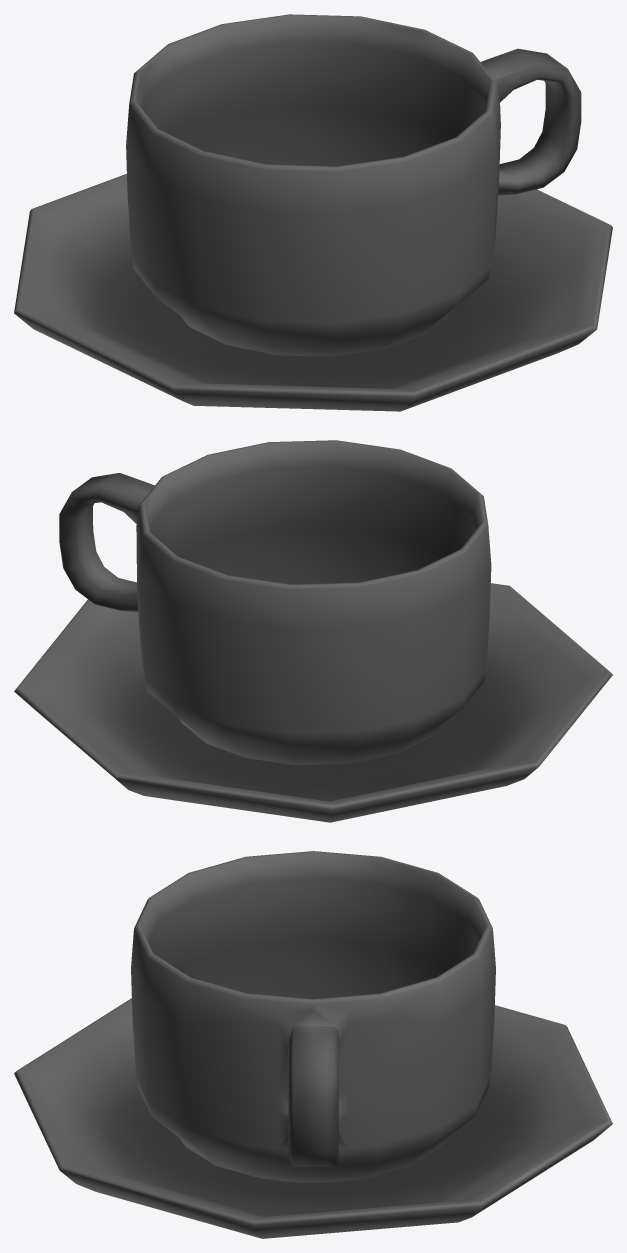
The model's file is Coffeecup.fbx.
The picture shows the model from 3 angles, top to bottom: view 1: azimuth 30°, elevation 25°; view 2: azimuth 150°, elevation 25°; view 3: azimuth 270°, elevation 25°; orthographic projection. The views are drawn at different scales.
Parts seen in each view (by area): view 1: Coffeecup; view 2: Coffeecup; view 3: Coffeecup.
Boxes of the visible parts, bbox=[...] form: Coffeecup: bbox=[14, 14, 612, 411]; Coffeecup: bbox=[14, 440, 612, 822]; Coffeecup: bbox=[14, 851, 612, 1238].
Bounding box in the file's own units: 0.2365 × 0.1048 × 0.2365.
